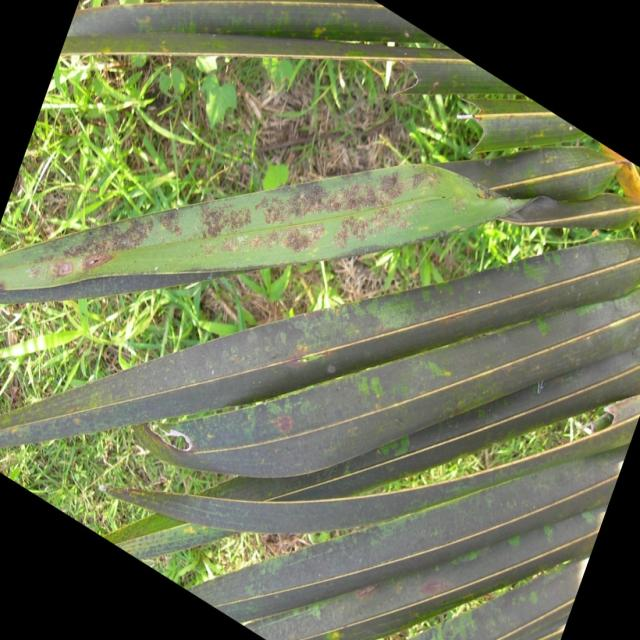Sooty Mold: (17, 0, 603, 640)
